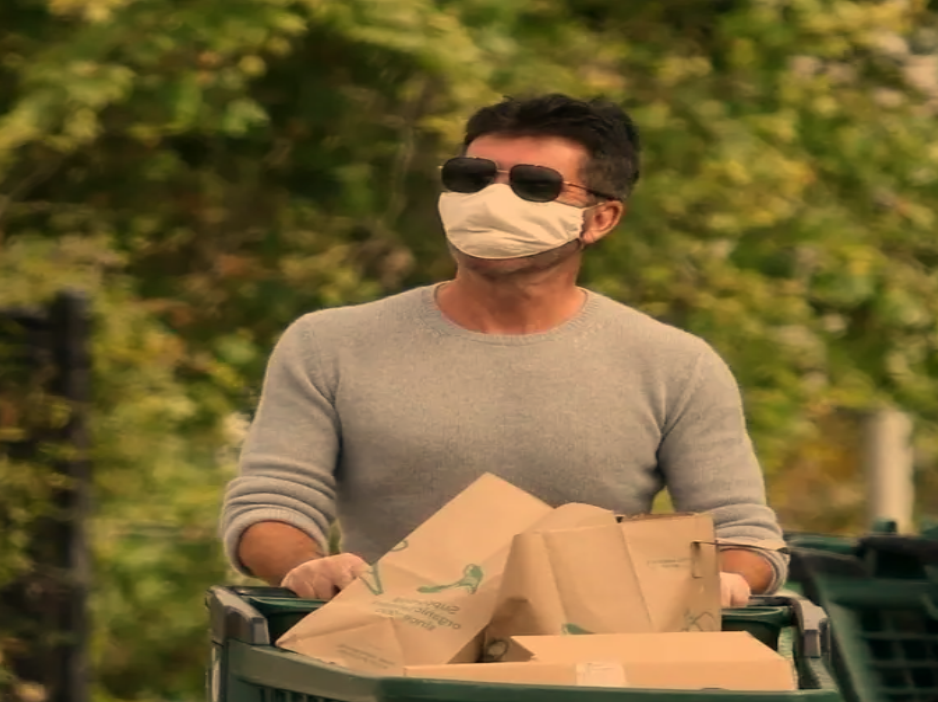mask_weared_incorrect: (428, 98, 643, 280)
